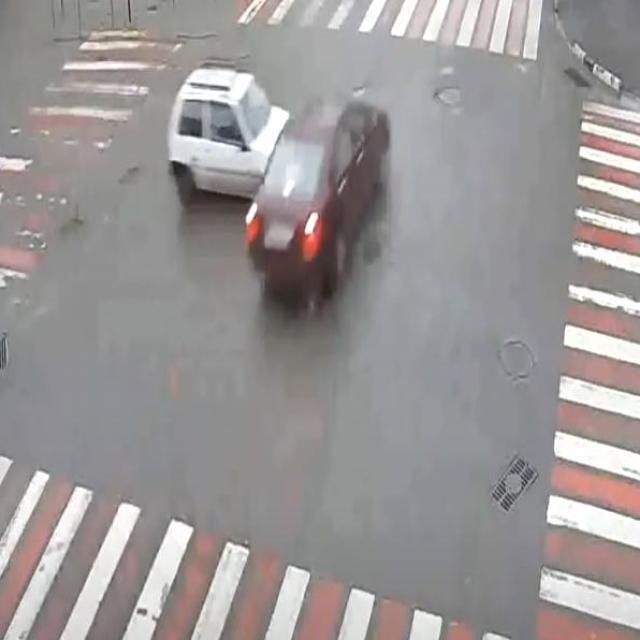accident: (165, 59, 394, 309)
